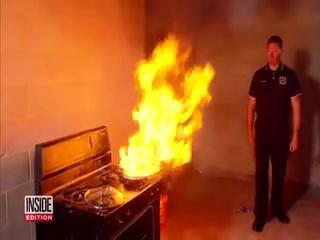Fire: (119, 32, 218, 178)
